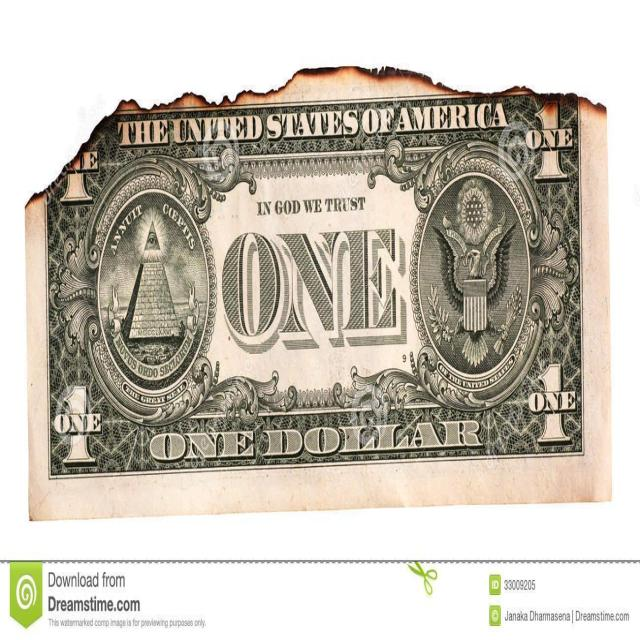1-Back: (40, 78, 609, 494)
